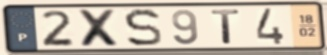2: (41, 9, 77, 48)
4: (255, 7, 286, 46)
9: (170, 8, 200, 47)
S: (121, 7, 164, 48)
T: (209, 8, 243, 46)
X: (75, 8, 124, 49)
